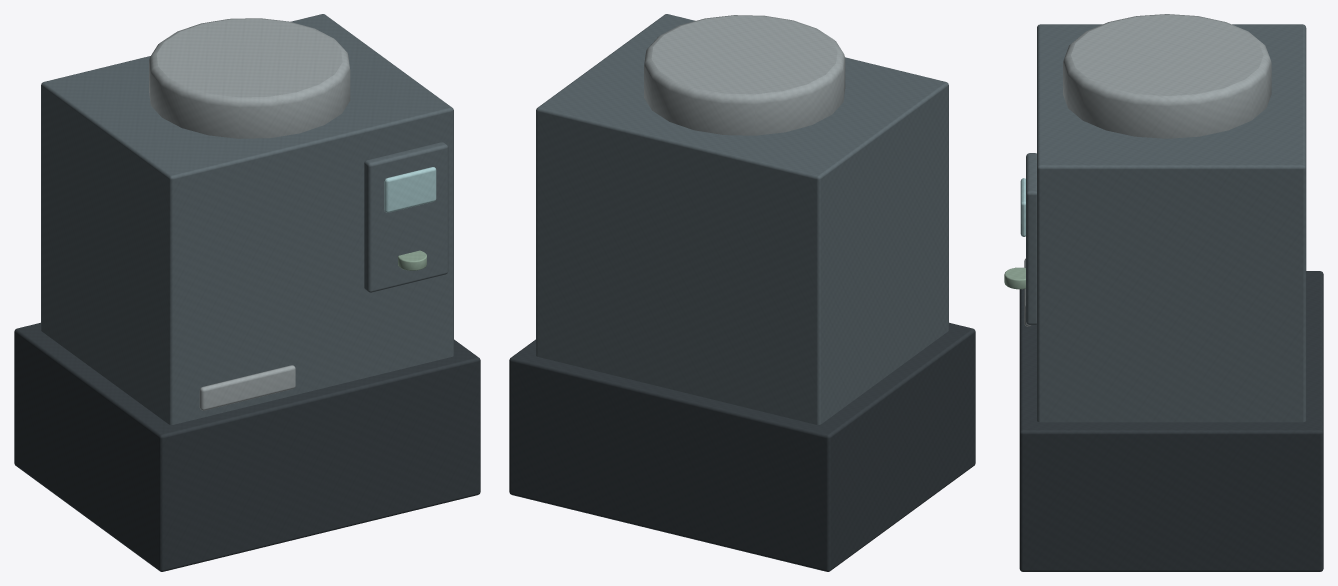
The model's file is LabCentrifuge.fbx.
3 renders of one model, left to right at view 1: azimuth 30°, elevation 25°; view 2: azimuth 150°, elevation 25°; view 3: azimuth 270°, elevation 25°, orthographic. The views are drawn at different scales.
Parts seen in each view (by area): view 1: LabCentrifuge_Mesh; view 2: LabCentrifuge_Mesh; view 3: LabCentrifuge_Mesh.
Boxes of the visible parts, bbox=[...] form: LabCentrifuge_Mesh: bbox=[14, 14, 480, 571]; LabCentrifuge_Mesh: bbox=[509, 14, 975, 571]; LabCentrifuge_Mesh: bbox=[1004, 14, 1323, 571].
Bounding box in the file's own units: 88 × 111 × 73.5.
Materials: 5 (5 with a texture image).
